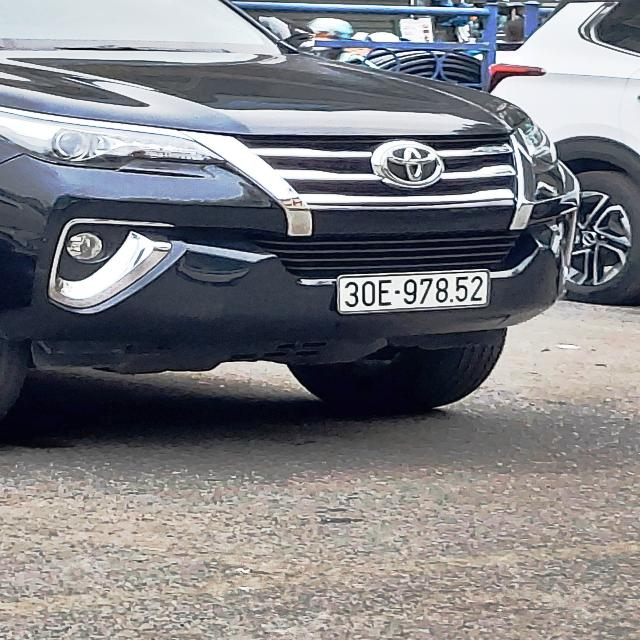license_plate: (332, 267, 494, 320)
